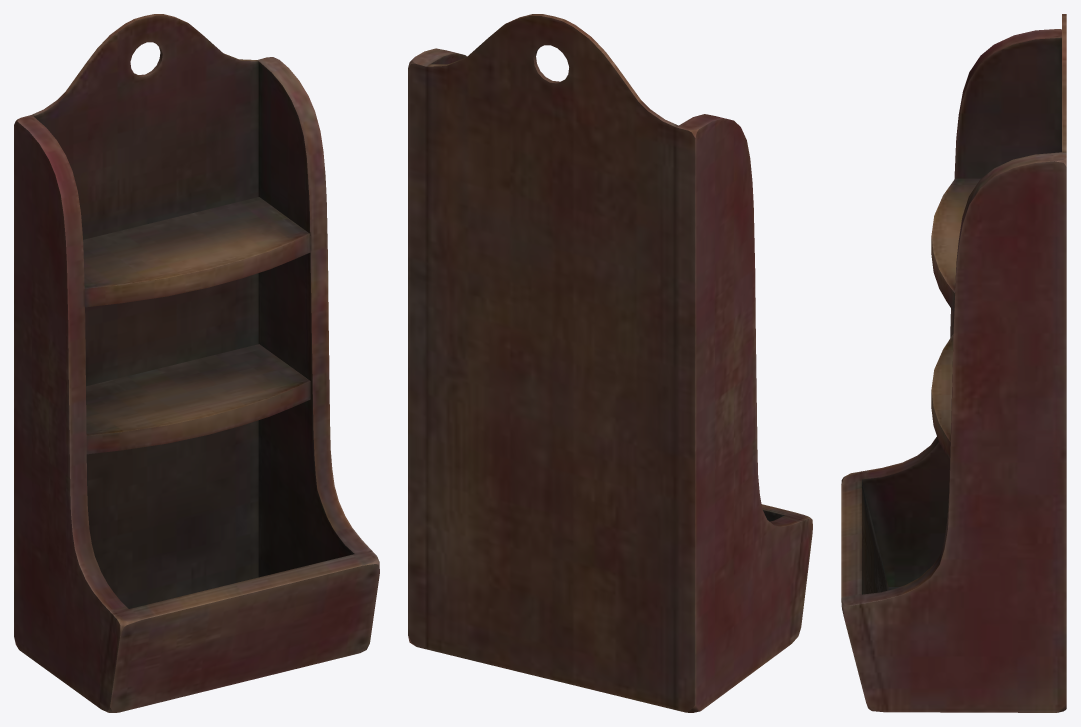
3 renders of one model, left to right at view 1: azimuth 30°, elevation 25°; view 2: azimuth 150°, elevation 25°; view 3: azimuth 270°, elevation 25°, orthographic. The views are drawn at different scales.
Parts seen in each view (by area): view 1: painted_wooden_shelves; view 2: painted_wooden_shelves; view 3: painted_wooden_shelves.
Boxes of the visible parts, x1=… form: painted_wooden_shelves: x1=14, y1=14, x2=379, y2=712; painted_wooden_shelves: x1=408, y1=14, x2=812, y2=712; painted_wooden_shelves: x1=841, y1=14, x2=1066, y2=712.
Size of the model in its own units: 0.5111 by 1.13 by 0.3671.
1 material, 1 textured.
